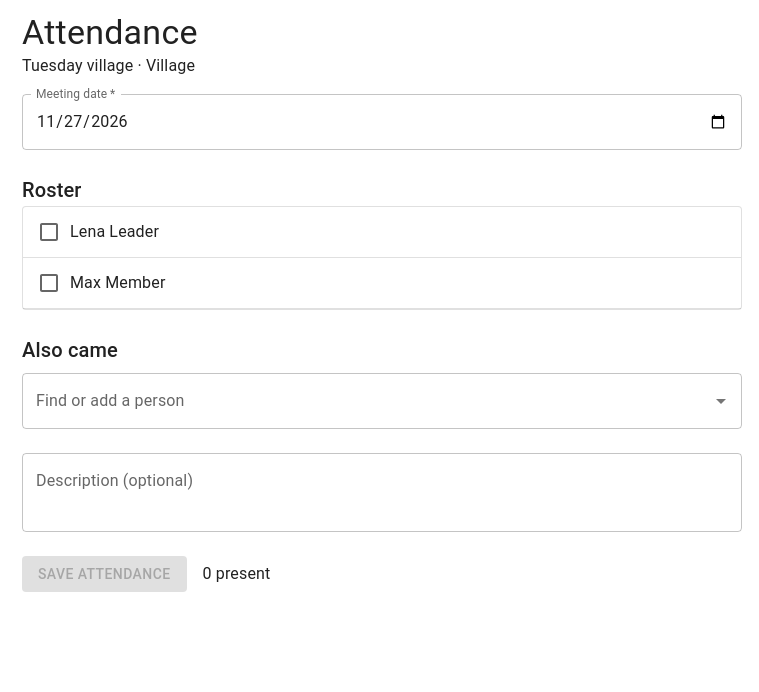
Test case: TakeAttendance › TakeAttendance_SaveFails_ShowsServerMessageAndKeepsTheForm
Click the checkbox labelled "Max Member". click: (101, 283)
box: [37,271,166,295]
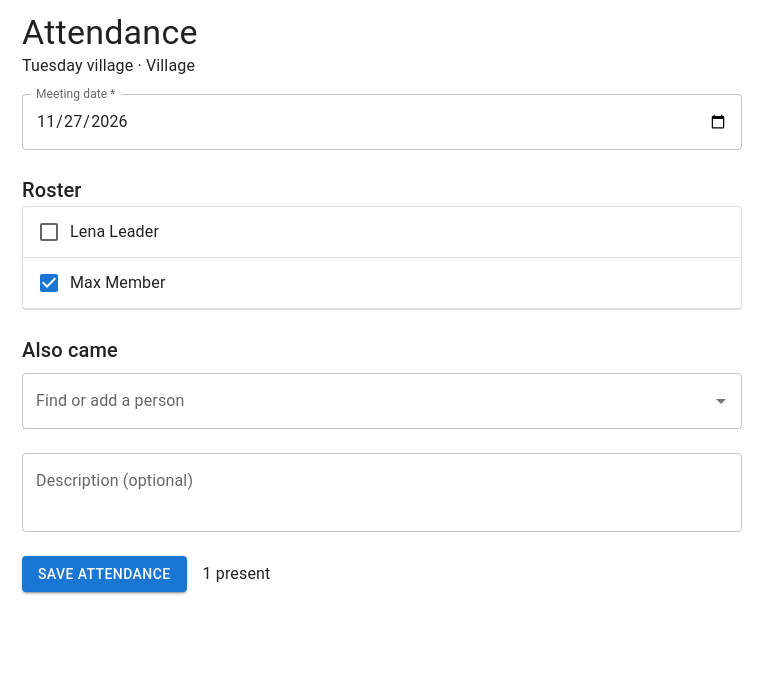
Click the button "Save attendance". click: (104, 574)
box: [22,556,186,592]
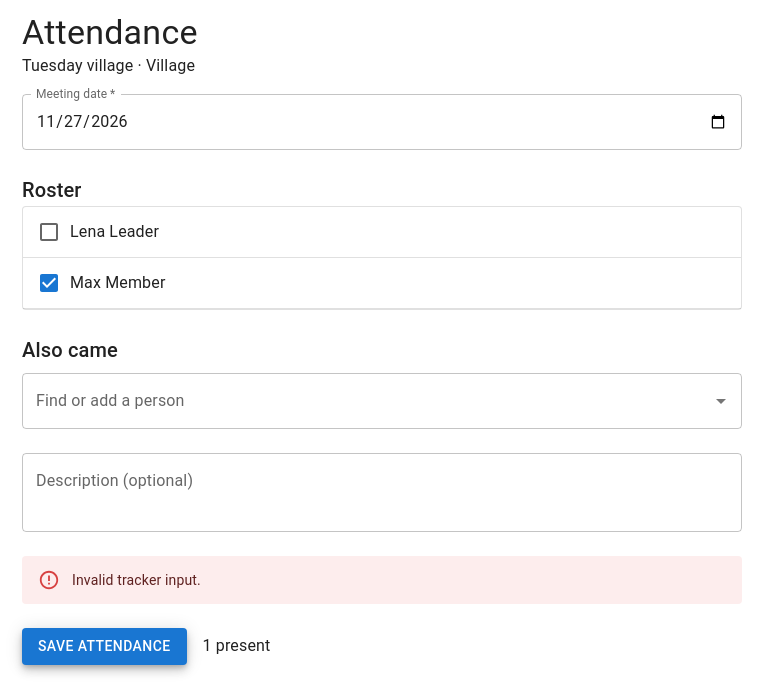
Now the checkbox labelled "Max Member" is checked, box [37,271,166,295]
Now the message "Invalid tracker input." is shown, box [22,556,742,604]
